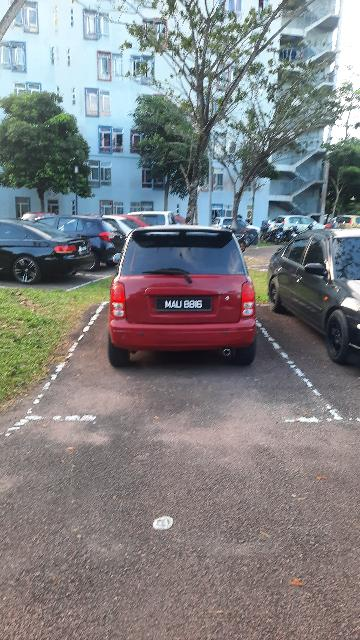License_Plate: (155, 294, 214, 314)
car: (108, 226, 259, 368)
